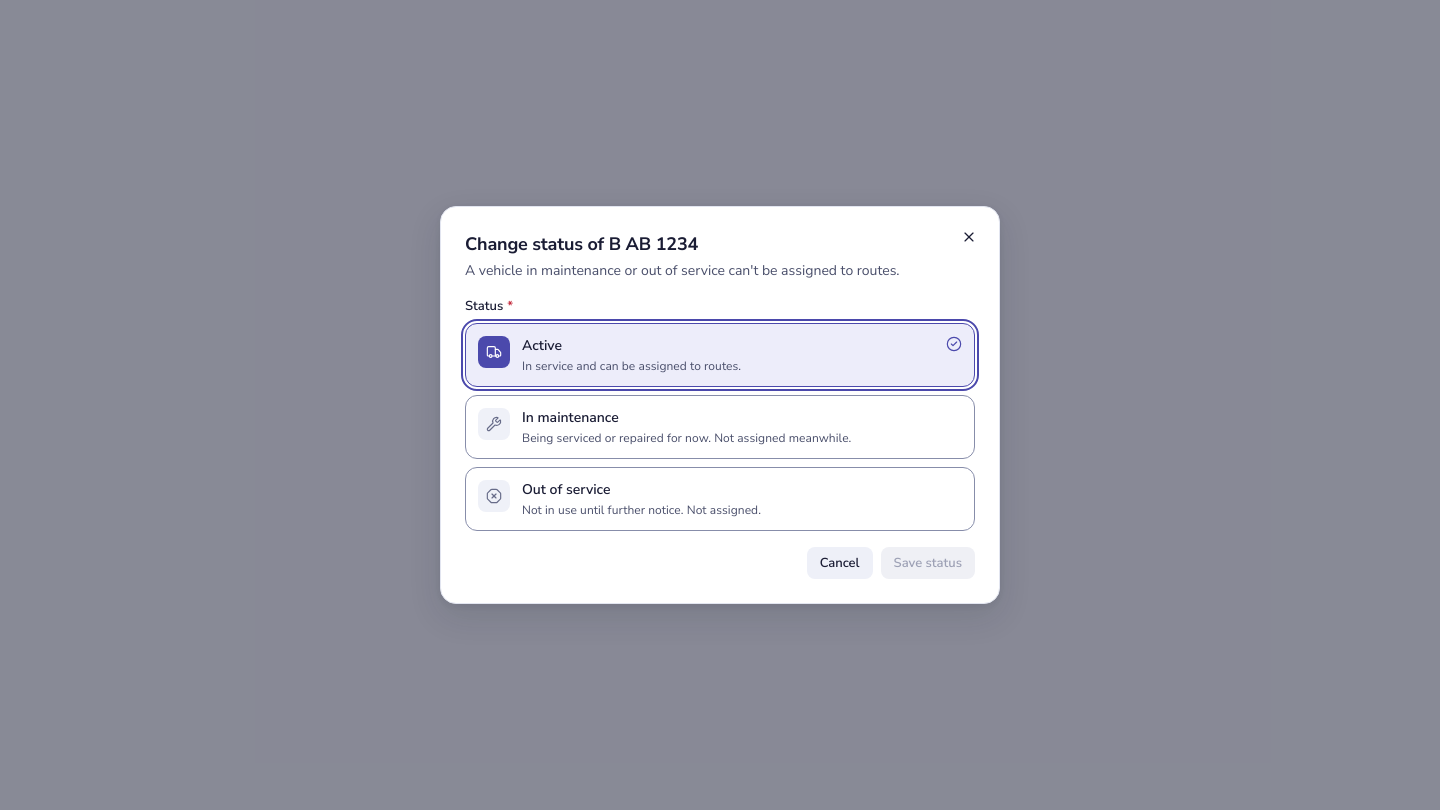
Scenario: VehicleStatusDialog › refuses in_maintenance without a reason, and sends nothing
Click the radio button labelled "In maintenance" at (720, 427), box [465, 395, 975, 459]
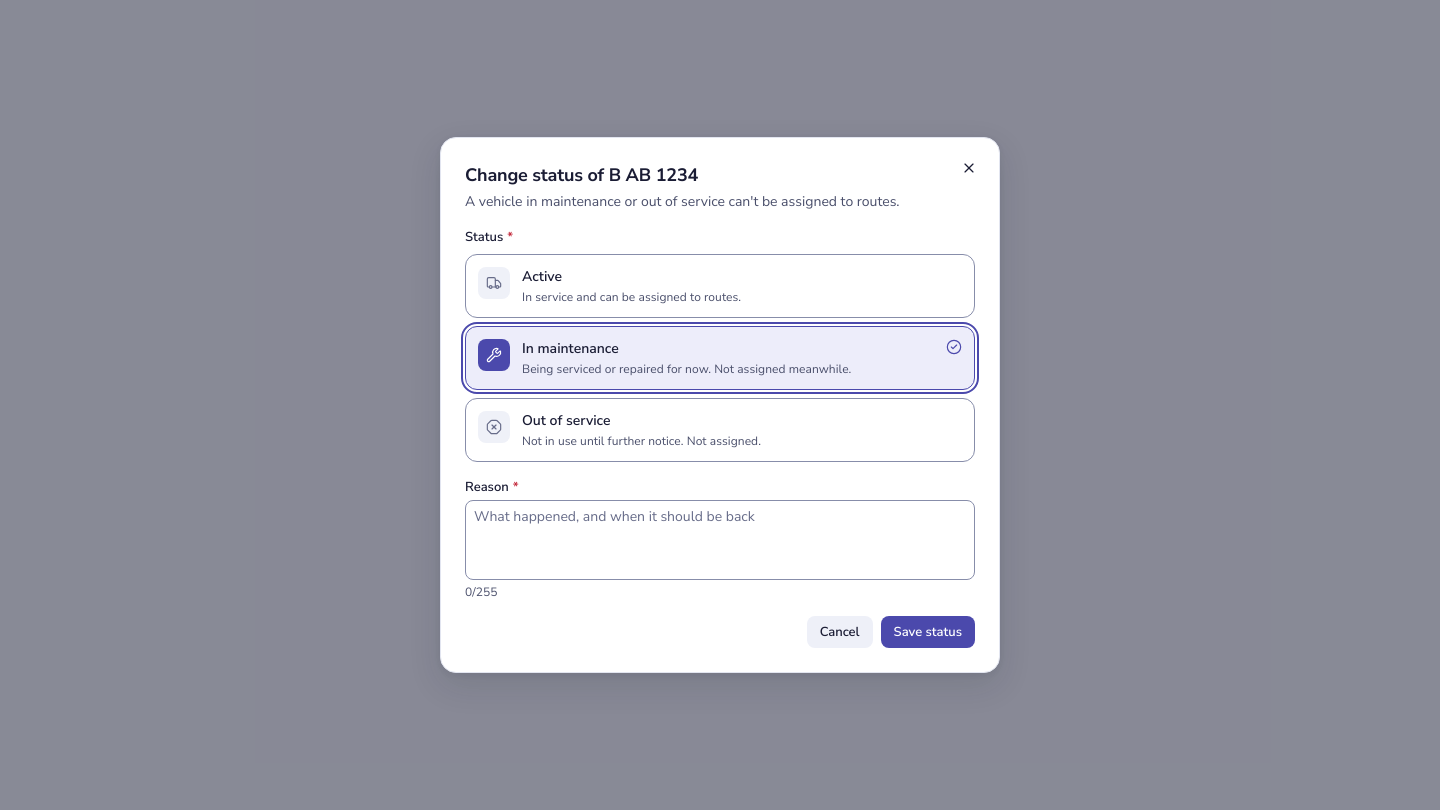
Click the button "Save status" at (928, 632), box [881, 616, 975, 648]
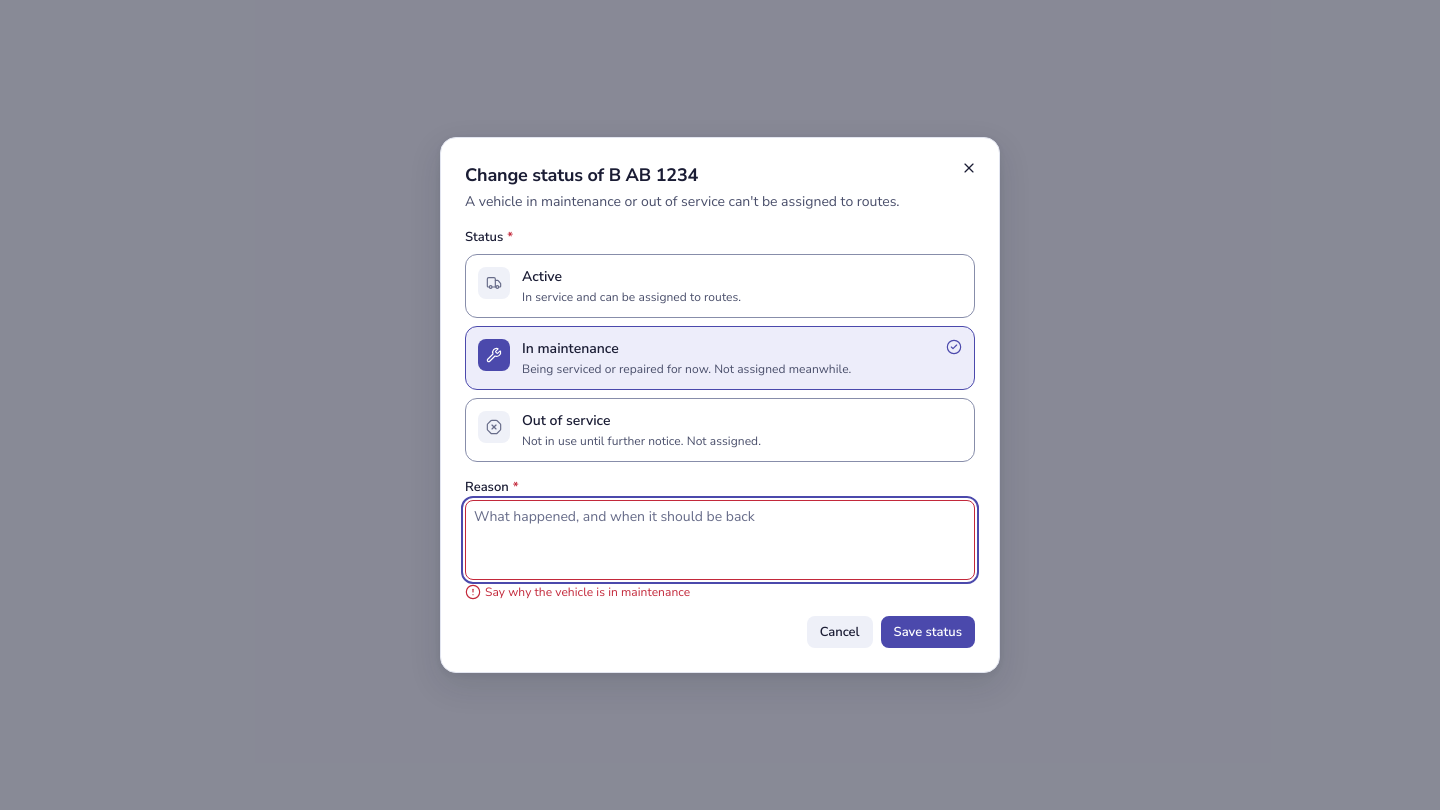
Expected: the text "Say why the vehicle is in maintenance" is shown, [465, 584, 690, 600]
